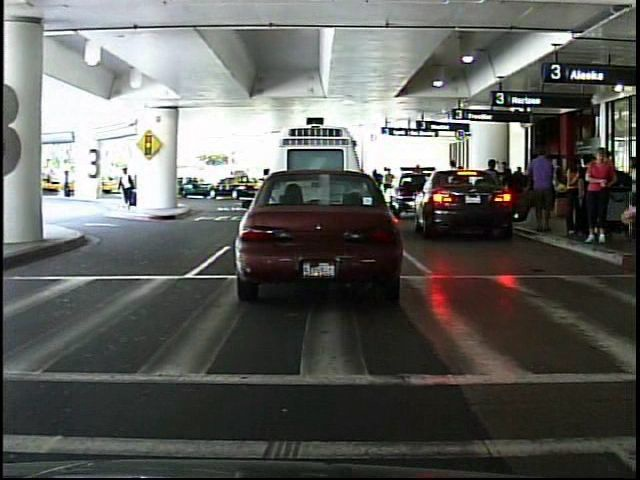person: (583, 143, 619, 249), (113, 159, 144, 211), (61, 163, 77, 202)
